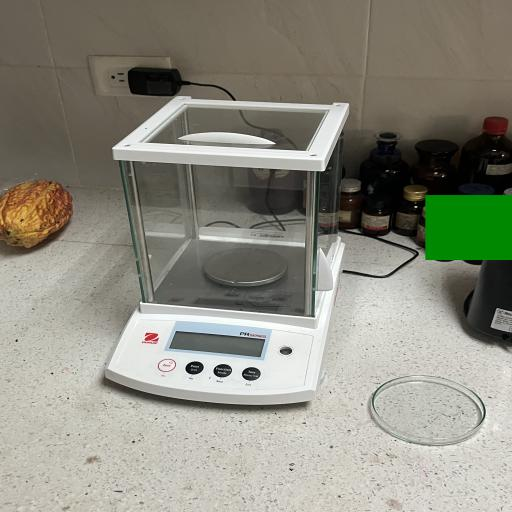Balanza_Analitica_Ohaus: (88, 89, 372, 418)
